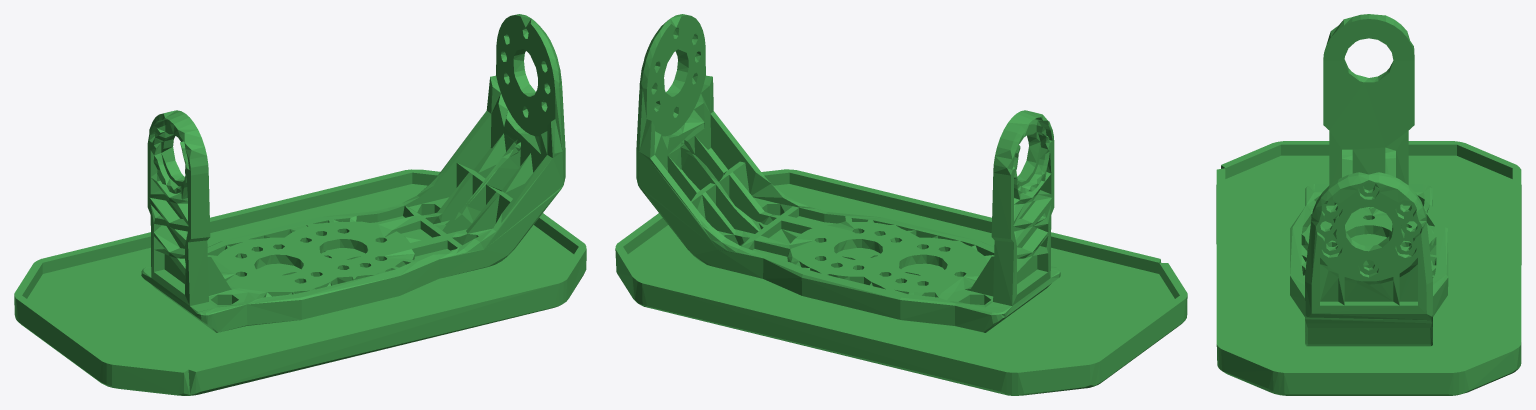
Rendered from bone35.DAE.
The picture shows the model from 3 angles, left to right: view 1: azimuth 30°, elevation 25°; view 2: azimuth 150°, elevation 25°; view 3: azimuth 270°, elevation 25°; orthographic projection.
Parts seen in each view (by area): view 1: DRB-0010, Imported1; view 2: DRB-0010, Imported1; view 3: Imported1, DRB-0010.
Boxes of the visible parts, x1,y1,x2,y2 form: DRB-0010: (141,14,565,332); Imported1: (14,169,586,395); DRB-0010: (636,14,1060,332); Imported1: (615,169,1187,395); Imported1: (1216,141,1521,395); DRB-0010: (1290,14,1448,346).
Size of the model in its own units: 89.86 by 49.97 by 39.42.
